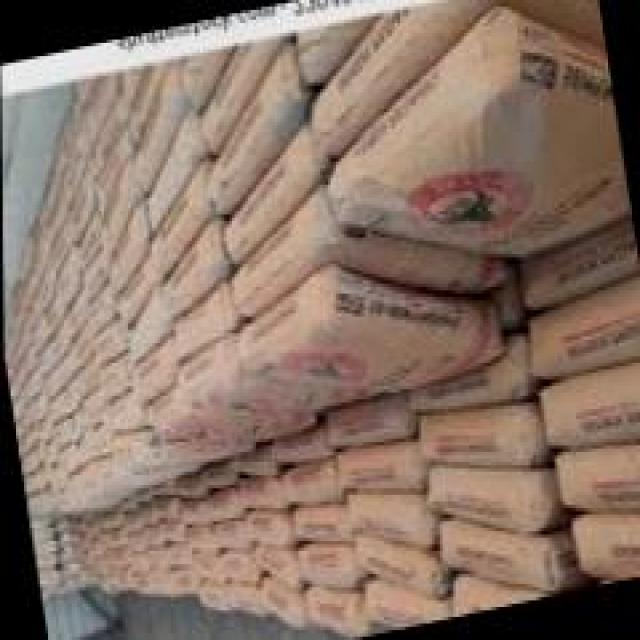gunny_bag: (330, 8, 629, 264), (305, 0, 597, 143), (238, 260, 507, 396), (225, 182, 500, 303), (174, 336, 376, 422), (207, 49, 304, 214), (222, 130, 332, 252), (518, 222, 638, 312), (199, 24, 286, 133), (154, 388, 310, 447), (535, 292, 640, 375), (436, 523, 560, 589), (411, 402, 524, 469), (541, 367, 640, 443), (432, 459, 535, 532), (144, 110, 202, 220), (158, 217, 226, 305), (335, 431, 423, 497), (357, 532, 442, 599), (344, 487, 426, 549), (175, 276, 240, 354), (553, 448, 640, 505), (136, 77, 186, 168), (323, 392, 406, 445), (109, 204, 156, 288), (579, 515, 640, 577), (367, 584, 439, 628), (130, 337, 176, 401), (129, 281, 170, 350), (271, 424, 331, 467), (281, 457, 336, 502), (307, 587, 356, 636), (258, 578, 298, 629), (244, 507, 293, 546), (236, 472, 287, 507), (300, 548, 349, 584), (297, 504, 347, 539), (94, 353, 135, 395), (255, 543, 294, 584), (92, 320, 125, 362), (101, 394, 140, 428), (226, 584, 263, 619), (200, 455, 235, 490), (201, 490, 241, 520), (234, 447, 275, 475), (221, 552, 254, 582), (193, 551, 221, 585), (214, 520, 245, 549), (187, 520, 214, 552)
